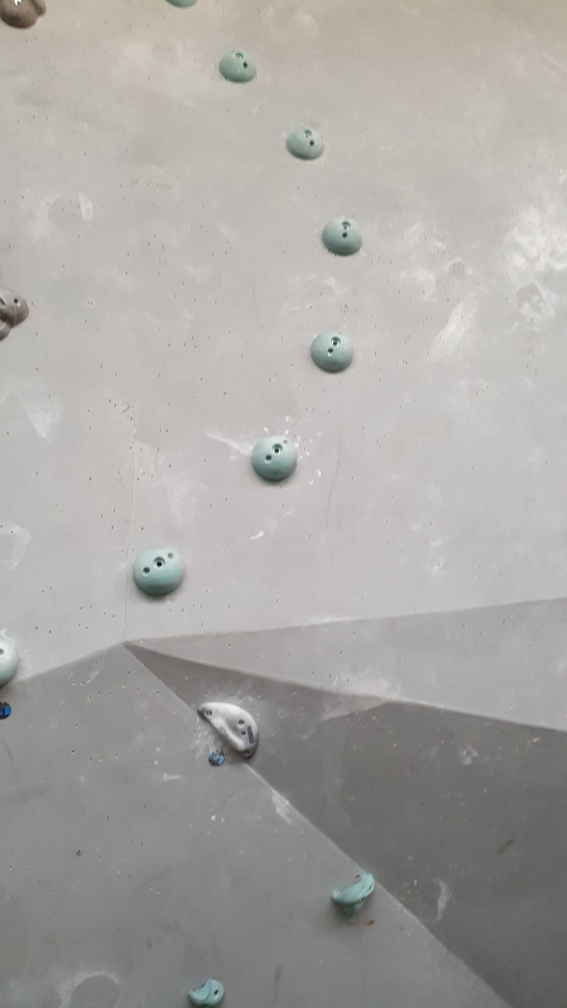Hand Start: (205, 743, 231, 773)
Jug: (327, 861, 381, 920)
Sloper: (130, 542, 186, 600), (250, 432, 303, 487), (322, 209, 367, 261), (309, 329, 355, 376), (282, 123, 332, 164), (214, 47, 260, 87)
